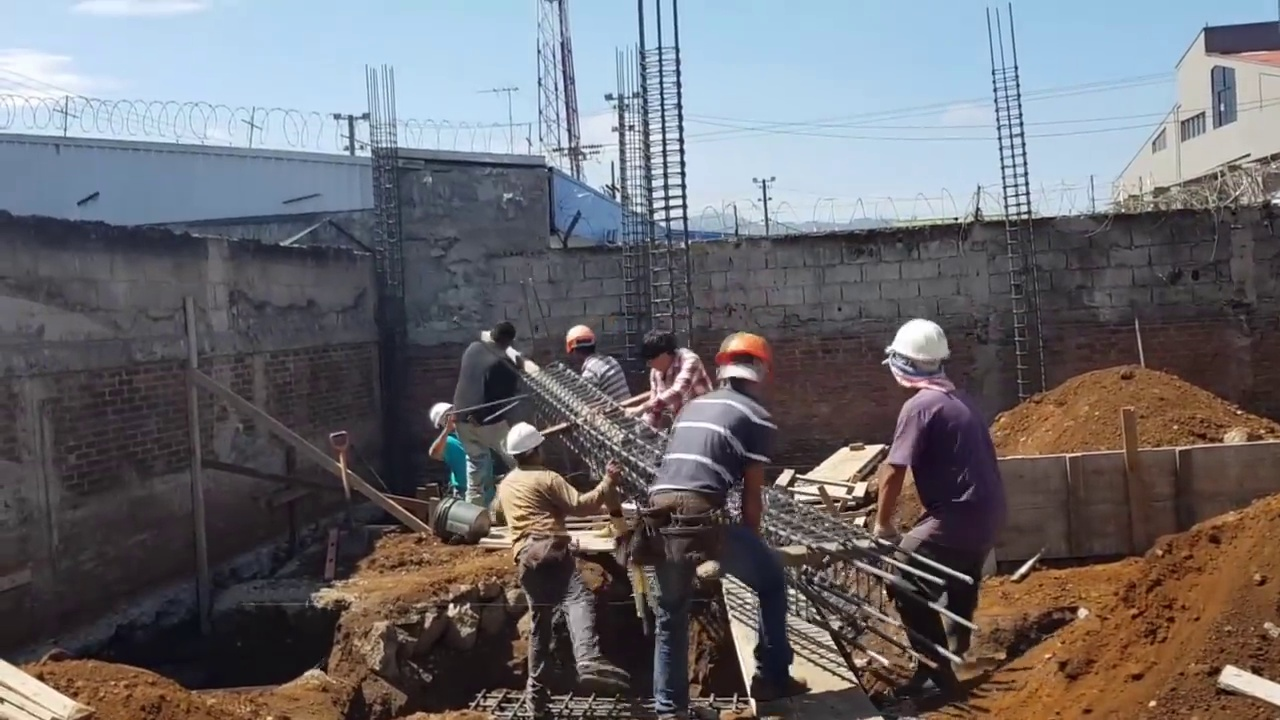helmet: (884, 318, 956, 370), (717, 335, 767, 365), (509, 423, 542, 459), (562, 322, 596, 354), (428, 403, 453, 430)
helmet-off: (640, 331, 678, 376), (484, 324, 512, 356)
helmet-on: (886, 323, 960, 401), (711, 328, 773, 401), (505, 421, 550, 475), (562, 323, 596, 369), (429, 404, 458, 431)
person: (633, 327, 786, 707), (861, 318, 1000, 697), (497, 423, 636, 707), (561, 323, 634, 540), (456, 323, 529, 452), (627, 335, 710, 422), (428, 404, 495, 504)
